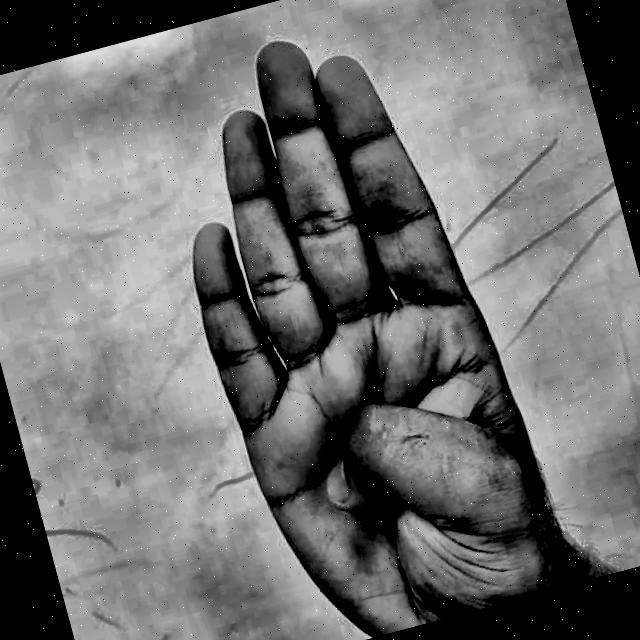Ba: (101, 0, 616, 640)
